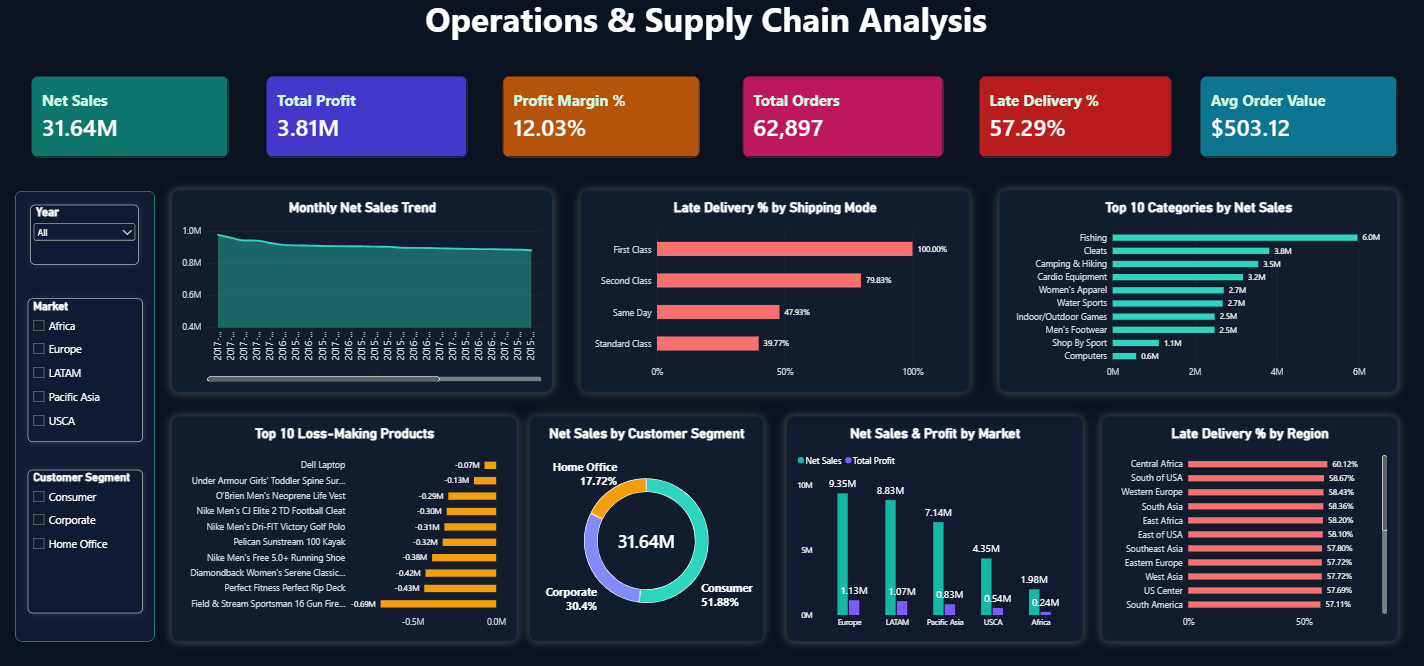

The dashboard page shown, as its layout file describes it:
{"tool":"powerbi","page":{"name":"Page 1","canvas":[2300,1080],"ordinal":0},"visuals":[{"type":"cardVisual","fields":{"Data":["fact_orders.Net Sales"]},"box":[60.1,128.6,315.4,130.5],"z":0},{"type":"cardVisual","fields":{"Data":["fact_orders.Total Profit"]},"box":[435.8,128.6,321.9,130.5],"z":1000},{"type":"cardVisual","fields":{"Data":["fact_orders.Total Orders"]},"box":[1198.9,128.6,321.9,130.5],"z":2000},{"type":"cardVisual","fields":{"Data":["fact_orders.Profit Margin %"]},"box":[813.2,128.6,315.4,130.5],"z":3000},{"type":"cardVisual","fields":{"Data":["fact_orders.Late Delivery %"]},"box":[1576.3,128.6,308.8,130.5],"z":4000},{"type":"textbox","box":[646.6,0,1033.7,92.4],"z":5000},{"type":"lineChart","title":"Monthly Net Sales Trend","fields":{"Category":["dim_date.ym"],"Y":["fact_orders.Net Sales"]},"box":[283.9,310.6,609.5,323.9],"z":6000},{"type":"clusteredBarChart","title":"Late Delivery % by Shipping Mode","fields":{"Category":["fact_orders.shipping_mode"],"Y":["fact_orders.Late Delivery %"]},"box":[938.4,310.6,622.8,323.9],"z":7000},{"type":"clusteredBarChart","title":"Top 10 Categories by Net Sales","fields":{"Category":["dim_product.category_name"],"Y":["fact_orders.Net Sales"]},"box":[1608,310.6,637.9,323.9],"z":8000},{"type":"clusteredBarChart","title":"Top 10 Loss-Making Products","fields":{"Category":["dim_product.product_name"],"Y":["fact_orders.Total Loss"]},"box":[283.9,671.2,552.7,360.7],"z":9000},{"type":"donutChart","title":"Net Sales by Customer Segment","fields":{"Category":["dim_customer.customer_segment"],"Y":["fact_orders.Net Sales"]},"box":[856.6,671.2,375.7,360.7],"z":10000},{"type":"cardVisual","fields":{"Data":["fact_orders.Avg Order Value"]},"box":[1930.3,128.6,315.4,130.5],"z":10001},{"type":"clusteredColumnChart","title":"Net Sales & Profit by Market","fields":{"Category":["fact_orders.market"],"Y":["fact_orders.Net Sales","fact_orders.Total Profit"]},"box":[1267.4,671.2,474.2,360.7],"z":10002},{"type":"clusteredBarChart","title":"Late Delivery % by Region","fields":{"Category":["fact_orders.order_region"],"Y":["fact_orders.Late Delivery %"]},"box":[1771.6,671.2,474.2,360.7],"z":10003},{"type":"shape","box":[33.4,311.3,223.6,720.8],"z":10004},{"type":"slicer","fields":{"Values":["dim_date.year"]},"box":[58.5,334.3,173.4,96.1],"z":10005},{"type":"slicer","fields":{"Values":["fact_orders.market"]},"box":[54.3,484.7,183.9,229.8],"z":10006},{"type":"slicer","fields":{"Values":["dim_customer.customer_segment"]},"box":[54.3,758.5,183.9,229.8],"z":10007}]}

Visuals, with their boxes in screenshot pixels (x1, y1, x2, y2), scaled from the page's 2300x1080 canvas onto the 1424x666 screenshot:
cardVisual - fact_orders.Net Sales: box=[37, 79, 232, 160]
cardVisual - fact_orders.Total Profit: box=[270, 79, 469, 160]
cardVisual - fact_orders.Total Orders: box=[742, 79, 942, 160]
cardVisual - fact_orders.Profit Margin %: box=[503, 79, 699, 160]
cardVisual - fact_orders.Late Delivery %: box=[976, 79, 1167, 160]
textbox: box=[400, 0, 1040, 57]
"Monthly Net Sales Trend" lineChart: box=[176, 192, 553, 391]
"Late Delivery % by Shipping Mode" clusteredBarChart: box=[581, 192, 967, 391]
"Top 10 Categories by Net Sales" clusteredBarChart: box=[996, 192, 1391, 391]
"Top 10 Loss-Making Products" clusteredBarChart: box=[176, 414, 518, 636]
"Net Sales by Customer Segment" donutChart: box=[530, 414, 763, 636]
cardVisual - fact_orders.Avg Order Value: box=[1195, 79, 1390, 160]
"Net Sales & Profit by Market" clusteredColumnChart: box=[785, 414, 1078, 636]
"Late Delivery % by Region" clusteredBarChart: box=[1097, 414, 1390, 636]
shape: box=[21, 192, 159, 636]
slicer - dim_date.year: box=[36, 206, 144, 265]
slicer - fact_orders.market: box=[34, 299, 147, 441]
slicer - dim_customer.customer_segment: box=[34, 468, 147, 609]
